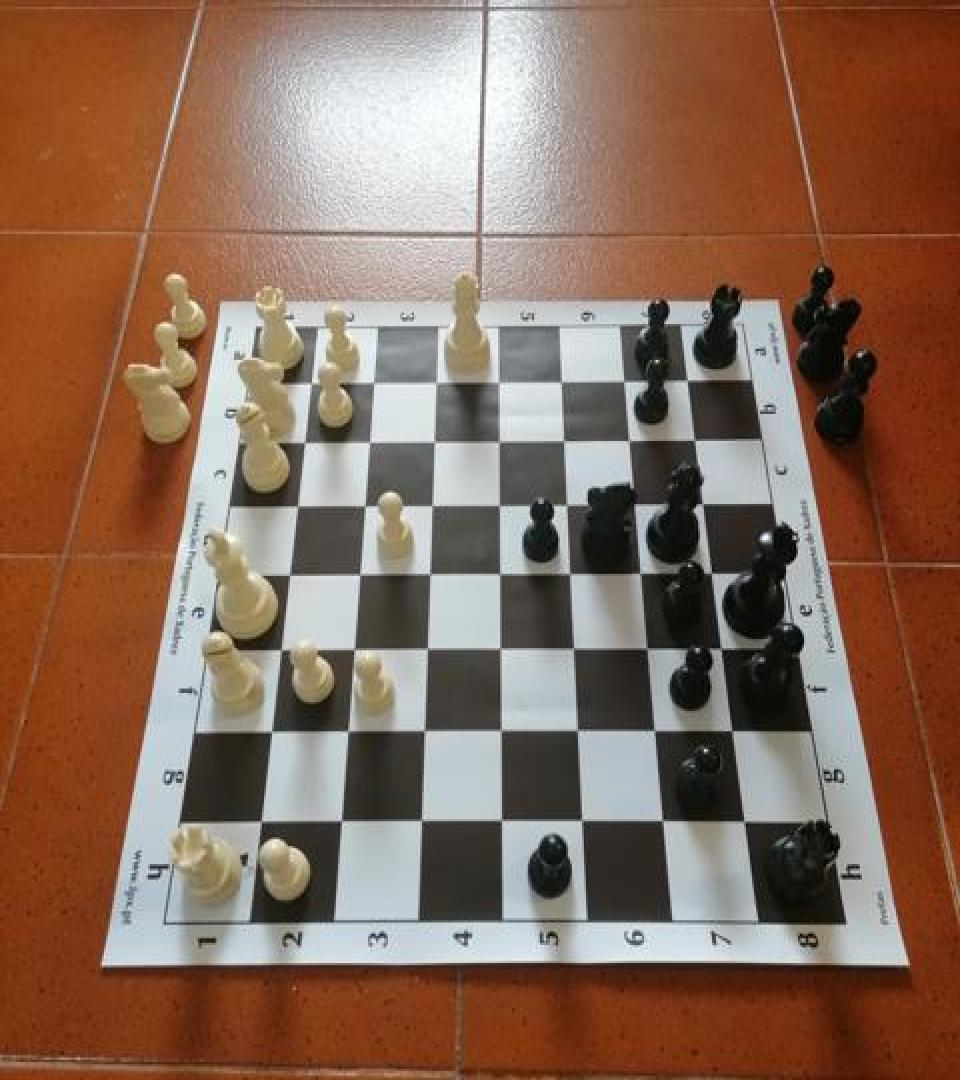xcorner: (294, 369, 322, 401), (683, 425, 711, 457), (617, 425, 645, 457), (550, 426, 578, 458), (484, 426, 512, 458), (419, 427, 447, 459), (353, 427, 381, 459), (691, 489, 719, 521), (623, 490, 651, 522), (554, 490, 582, 522), (485, 490, 513, 522), (701, 559, 729, 591), (629, 559, 657, 591), (557, 560, 585, 592), (486, 560, 514, 592), (414, 560, 442, 592), (343, 561, 371, 593), (272, 561, 300, 593), (711, 634, 739, 666), (675, 366, 703, 397), (611, 367, 639, 398), (547, 367, 575, 398), (484, 367, 512, 398), (420, 368, 448, 399), (357, 368, 385, 399), (287, 429, 315, 460), (417, 492, 445, 523), (348, 492, 376, 523), (280, 492, 308, 523), (636, 636, 664, 667), (561, 636, 589, 667), (487, 636, 515, 667), (412, 636, 440, 667), (338, 637, 366, 668), (264, 637, 292, 668), (722, 718, 750, 749), (643, 718, 671, 749), (565, 718, 593, 749), (487, 718, 515, 749), (410, 719, 438, 750), (332, 719, 360, 750), (255, 719, 283, 750), (734, 808, 762, 839), (652, 808, 680, 839), (570, 808, 598, 839), (488, 808, 516, 839), (407, 808, 435, 839), (326, 808, 354, 839), (245, 809, 273, 840)
